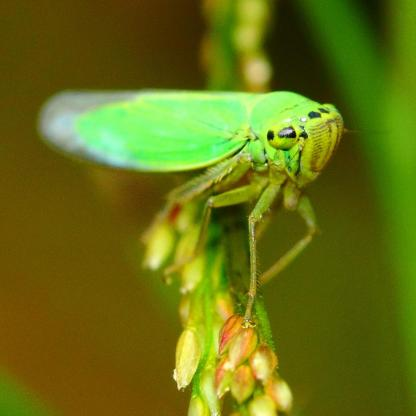Green-Leafhopper: (31, 76, 345, 315)
